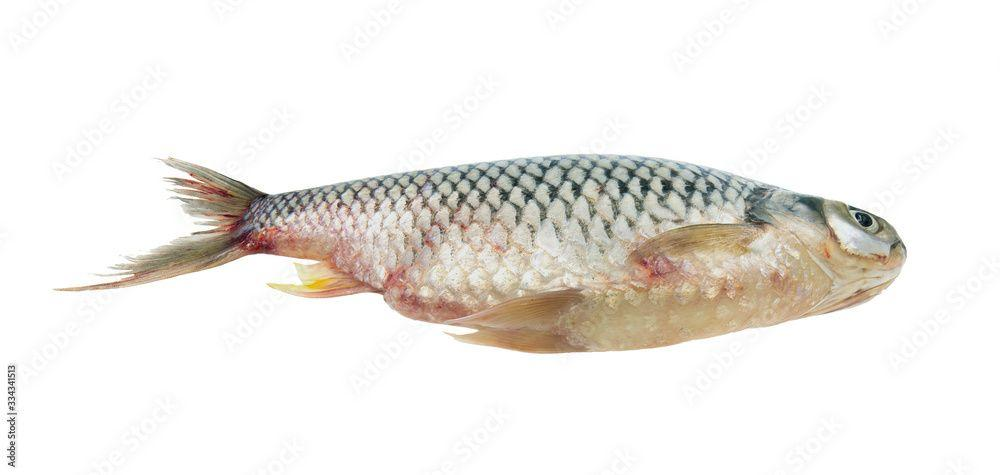Silver Barb: (98, 140, 933, 349)
